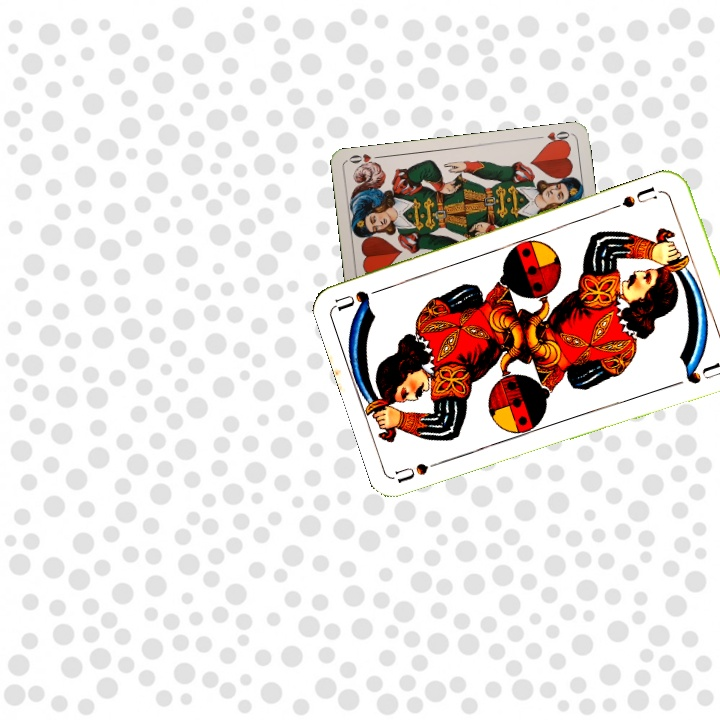HO: (542, 127, 573, 148)
SU: (393, 455, 452, 485), (618, 182, 660, 211)
